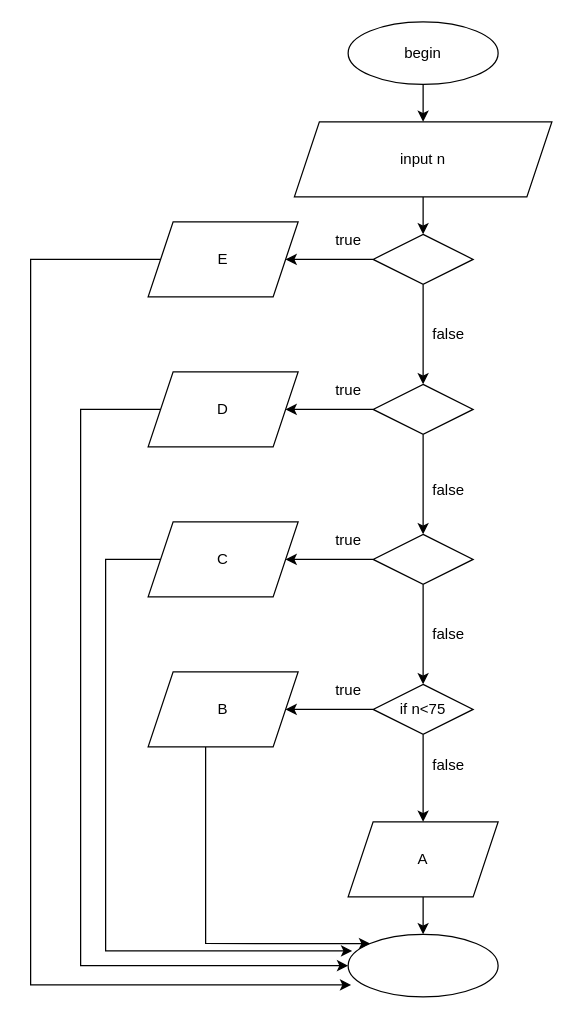
Image size: 574x1019. Some labels were removed from this diagram. The shapes that lost their labels are listed below. From the top down, each one's centre as x and y in pixels, then its label:
point (422, 258): if n<35
point (422, 408): if n<45
point (422, 558): if n<60
point (422, 965): end
